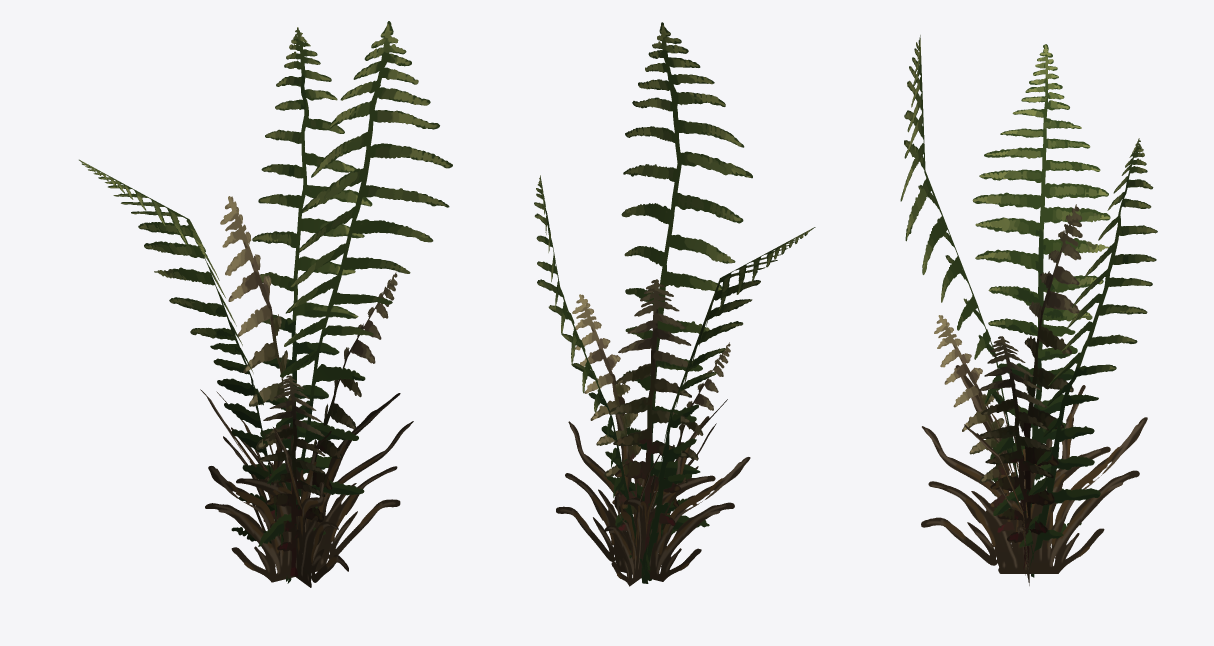
File: FernPatch2_Mesh_01.fbx
3 renders of one model, left to right at view 1: azimuth 30°, elevation 25°; view 2: azimuth 150°, elevation 25°; view 3: azimuth 270°, elevation 25°, orthographic. The views are drawn at different scales.
Parts seen in each view (by area): view 1: Plane.017; view 2: Plane.017; view 3: Plane.017.
Boxes of the visible parts, x1,y1,x2,y2 form: Plane.017: [79, 21, 452, 587]; Plane.017: [534, 22, 815, 586]; Plane.017: [900, 35, 1157, 585].
Size of the model in its own units: 41.7 by 70.52 by 33.54.
